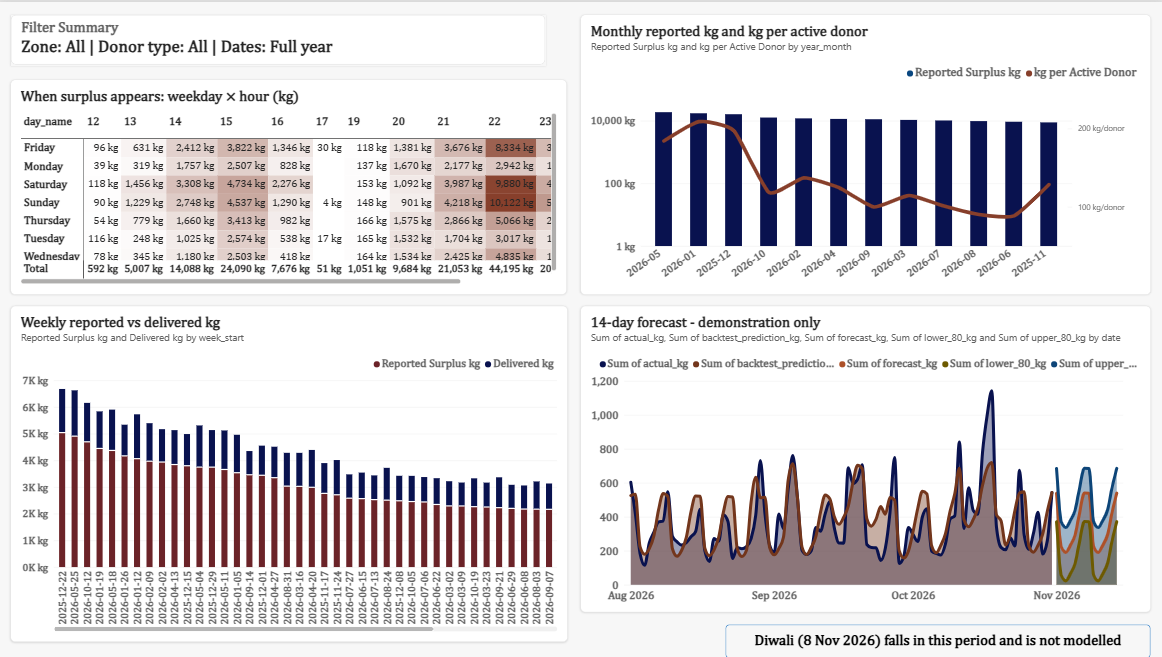

The dashboard page shown, as its layout file describes it:
{"tool":"powerbi","page":{"name":"Time & Forecast","canvas":[1920,1080],"ordinal":3},"visuals":[{"type":"cardVisual","fields":{"Data":["_Measures.Filter Summary"]},"box":[21.5,21.5,881.9,83.7],"z":3000},{"type":"lineClusteredColumnComboChart","title":"Monthly reported kg and kg per active donor","fields":{"Category":["dim_date.year_month"],"Y":["_Measures.Reported Surplus kg"],"Y2":["_Measures.kg per Active Donor"]},"box":[959.1,19.9,939.2,461.5],"z":4000},{"type":"pivotTable","title":"When surplus appears: weekday × hour (kg)","fields":{"Columns":["fact_surplus.report_hour"],"Rows":["dim_date.day_name"],"Values":["_Measures.Reported Surplus kg"]},"box":[21.5,126.6,916.2,354],"z":5000},{"type":"lineChart","title":"14-day forecast - demonstration only","fields":{"Category":["forecast_daily_wide.date"],"Y":["Sum(forecast_daily_wide.actual_kg)","Sum(forecast_daily_wide.backtest_prediction_kg)","Sum(forecast_daily_wide.forecast_kg)","Sum(forecast_daily_wide.lower_80_kg)","Sum(forecast_daily_wide.upper_80_kg)"]},"box":[959.1,499.5,939.2,504.9],"z":6000},{"type":"columnChart","title":"Weekly reported vs delivered kg","fields":{"Category":["dim_date.week_start"],"Y":["_Measures.Reported Surplus kg","_Measures.Delivered kg"]},"box":[19.9,499.5,917.5,553.8],"z":7000},{"type":"shape","box":[1197.9,1025,699.8,55.6],"z":8000}]}

Visuals, with their boxes in screenshot pixels (x1, y1, x2, y2), scaled from the page's 1920x1080 canvas onto the 1162x657 screenshot:
cardVisual - _Measures.Filter Summary: {"left": 13, "top": 13, "right": 547, "bottom": 64}
"Monthly reported kg and kg per active donor" lineClusteredColumnComboChart: {"left": 580, "top": 12, "right": 1149, "bottom": 293}
"When surplus appears: weekday × hour (kg)" pivotTable: {"left": 13, "top": 77, "right": 568, "bottom": 292}
"14-day forecast - demonstration only" lineChart: {"left": 580, "top": 304, "right": 1149, "bottom": 611}
"Weekly reported vs delivered kg" columnChart: {"left": 12, "top": 304, "right": 567, "bottom": 641}
shape: {"left": 725, "top": 624, "right": 1149, "bottom": 656}
